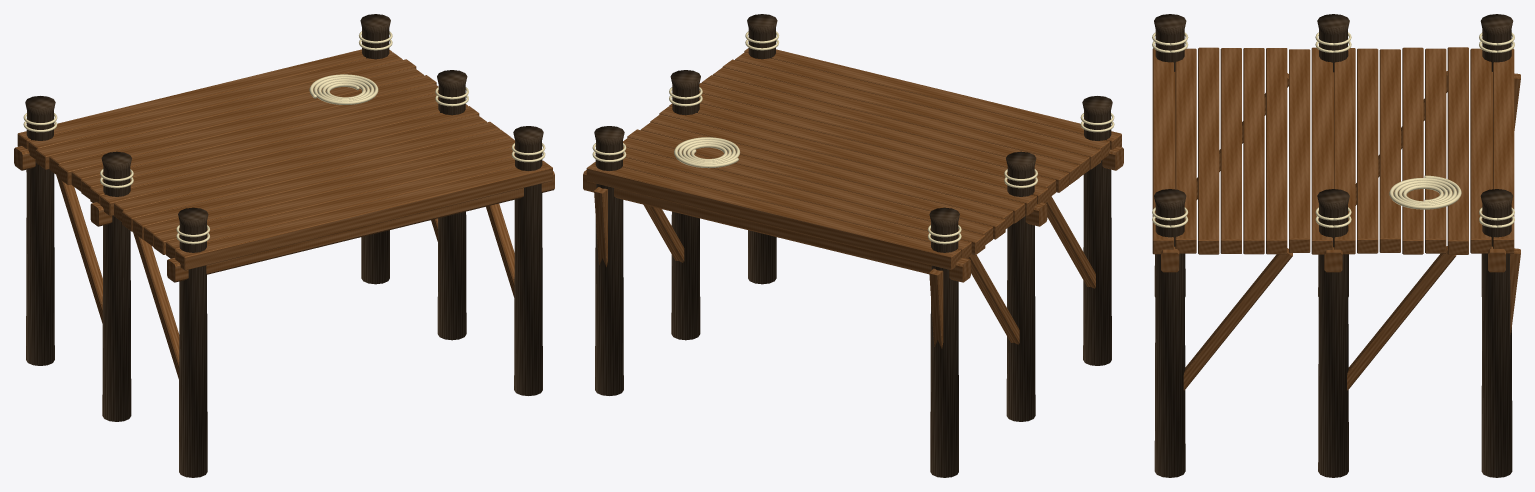
Rendered from dock_landing.glb.
3 views of the same model, side by side, from view 1: azimuth 30°, elevation 25°; view 2: azimuth 150°, elevation 25°; view 3: azimuth 270°, elevation 25° (orthographic). The views are drawn at different scales.
Parts seen in each view (by area): view 1: dock_landing_Deck, dock_landing_Joinery, dock_landing_Detail; view 2: dock_landing_Deck, dock_landing_Joinery, dock_landing_Detail; view 3: dock_landing_Deck, dock_landing_Joinery, dock_landing_Detail.
Part boxes in pixels (box(x1,y1,x2,y2)): dock_landing_Deck: box(17, 49, 552, 270); dock_landing_Joinery: box(14, 14, 554, 477); dock_landing_Detail: box(23, 31, 545, 244); dock_landing_Deck: box(586, 48, 1121, 269); dock_landing_Joinery: box(583, 14, 1123, 477); dock_landing_Detail: box(592, 31, 1114, 244); dock_landing_Deck: box(1152, 47, 1514, 254); dock_landing_Joinery: box(1154, 14, 1520, 477); dock_landing_Detail: box(1152, 32, 1514, 227).
Bounding box in the file's own units: 5.16 × 3.35 × 4.06.
Materials: 1 (1 with a texture image).
